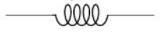inductor: (50, 0, 112, 29)
